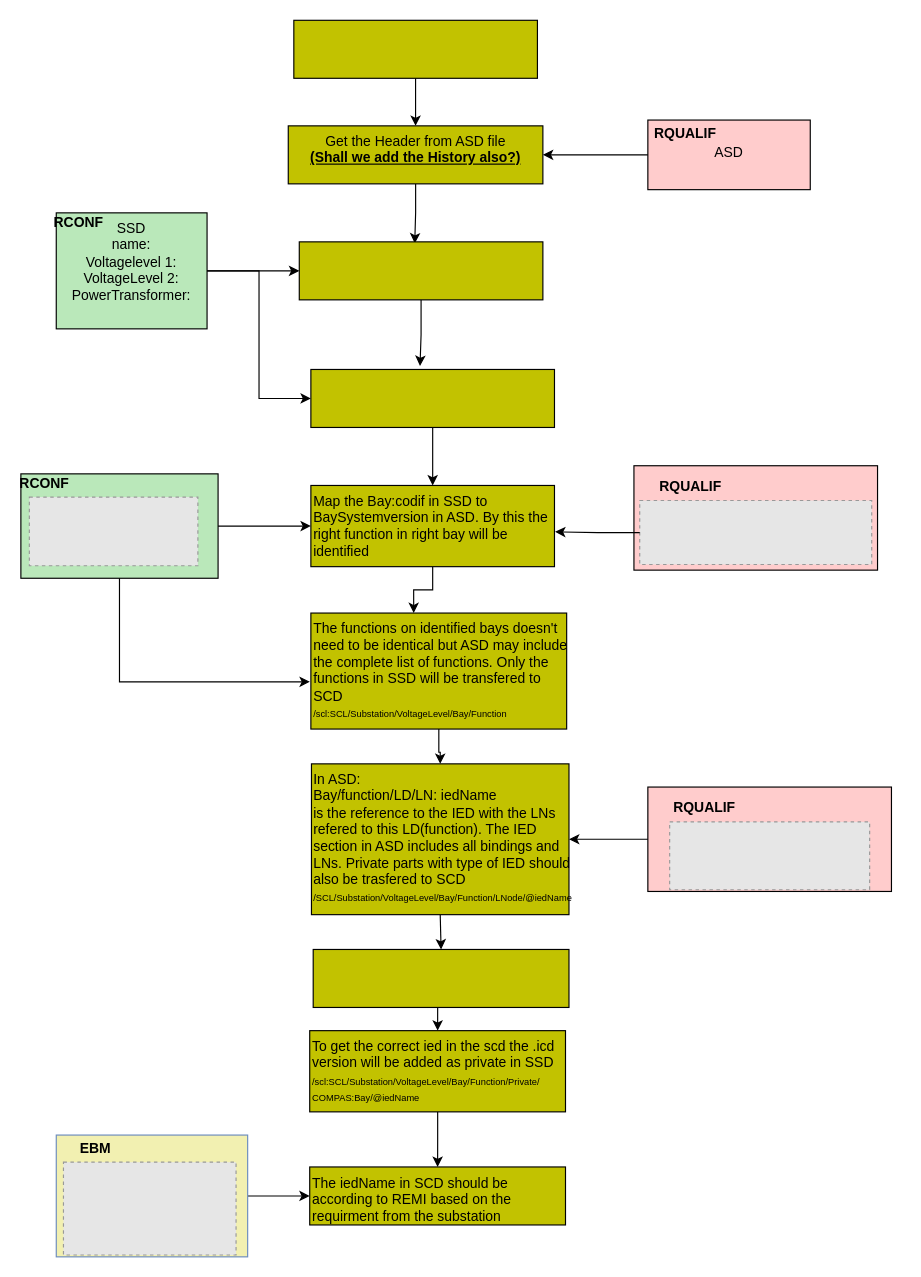
Image size: 921x1277. Some labels were removed from this diagram. Grey dashed boxes stand in for pictures. The shapes that lost their labels are listed below. From the top down, each one's centre as x and y in pixels, then its label:
At pixel 415 48: "Create a template scd file. With an empty structure".
At pixel 420 270: "Get the Substation Structure from RCONF".
At pixel 432 397: "Get the Bayname and conductingEquipment from the SSD.".
At pixel 440 977: "Make comparison with LNs in SSD and set unused LNs as OFF.".
